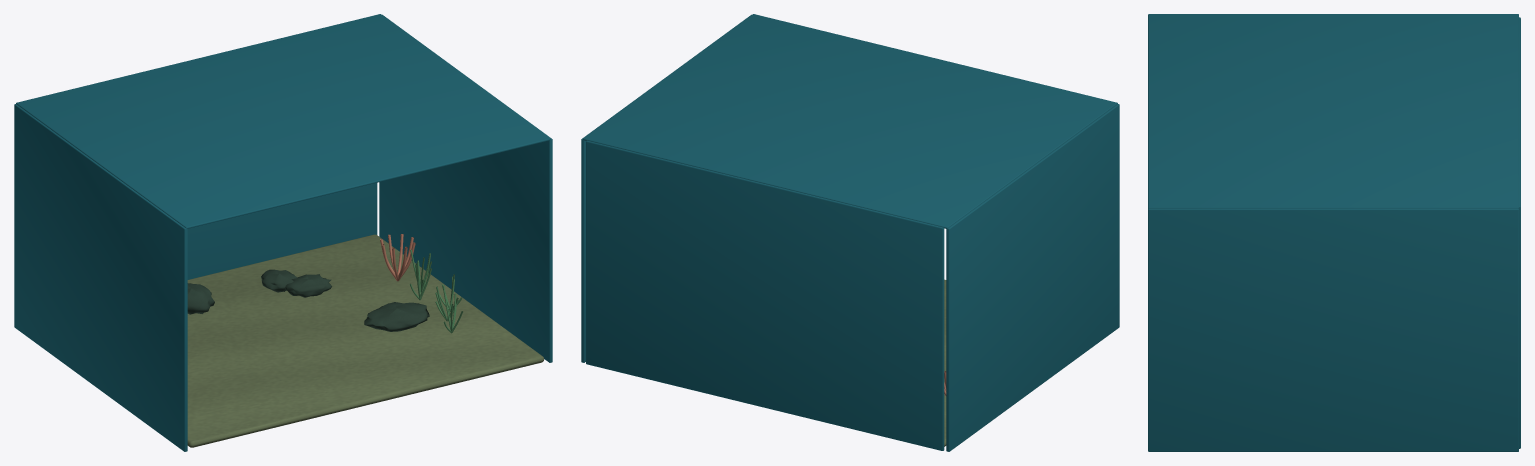
Rendered from reef.glb.
The picture shows the model from 3 angles, left to right: view 1: azimuth 30°, elevation 25°; view 2: azimuth 150°, elevation 25°; view 3: azimuth 270°, elevation 25°; orthographic projection. The views are drawn at different scales.
Parts seen in each view (by area): view 1: Water ceiling, Seabed, Water side, Water side.001, Distant water, Porous limestone.003, Porous limestone.004, Porous limestone.002, Porous limestone.001; view 2: Distant water, Water ceiling, Water side, Water side.001; view 3: Water side.001, Water ceiling, Distant water.
Boxes of the visible parts, box(x1,y1,x2,y2) form: Water ceiling: box(16, 14, 550, 228); Seabed: box(187, 234, 544, 447); Water side: box(14, 104, 187, 451); Water side.001: box(379, 14, 552, 362); Distant water: box(187, 183, 377, 279); Porous limestone.003: box(364, 302, 429, 331); Porous limestone.004: box(285, 274, 331, 297); Porous limestone.002: box(187, 283, 214, 314); Porous limestone.001: box(261, 269, 297, 292); Distant water: box(586, 140, 944, 450); Water ceiling: box(583, 14, 1117, 228); Water side: box(946, 104, 1119, 451); Water side.001: box(581, 14, 751, 362); Water side.001: box(1148, 208, 1518, 451); Water ceiling: box(1148, 14, 1518, 208); Distant water: box(1519, 17, 1520, 448).
Size of the model in its own units: 1.48 by 0.864 by 1.2.
Materials: 5 (2 with a texture image).
